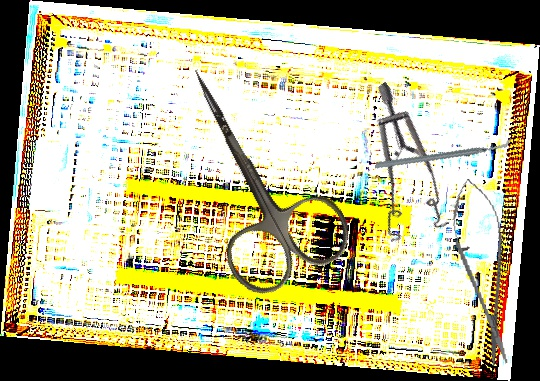Chopper: (374, 105, 512, 201)
Iris Scissors: (141, 39, 360, 306)
Micro Scissor: (443, 175, 525, 369)
Speculum: (309, 81, 483, 260)
